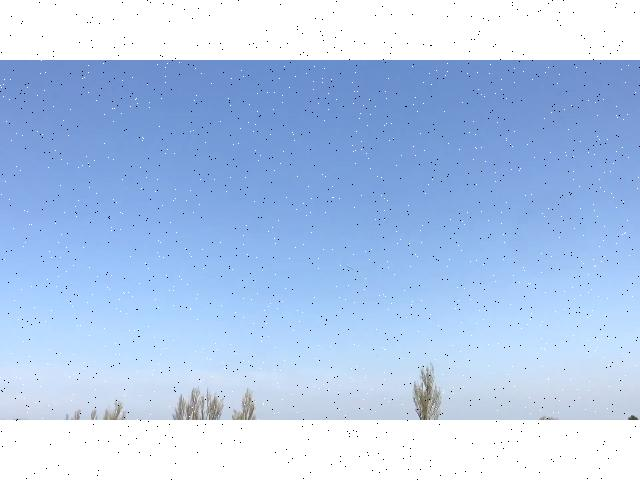Anti-Drone: (333, 260, 359, 275)
